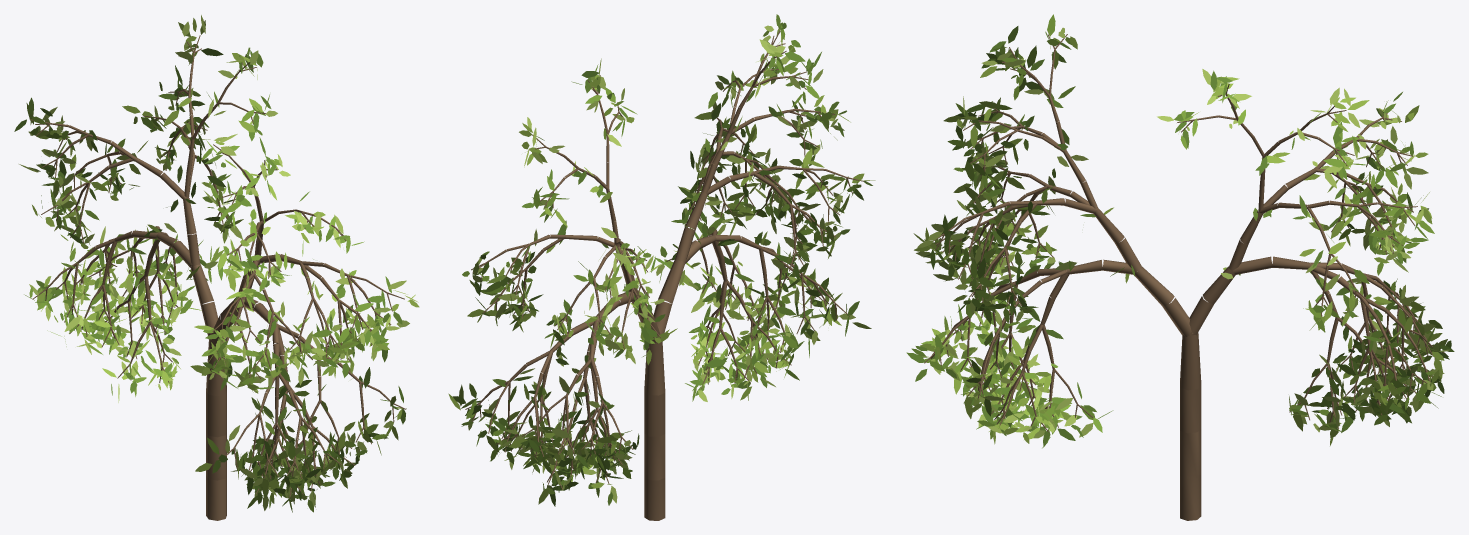
The model's file is tree.glb.
3 renders of one model, left to right at view 1: azimuth 30°, elevation 25°; view 2: azimuth 150°, elevation 25°; view 3: azimuth 270°, elevation 25°, orthographic. The views are drawn at different scales.
Parts seen in each view (by area): view 1: leaves, bark; view 2: leaves, bark; view 3: leaves, bark.
Part boxes in pixels (x1,y1,x2,y2): leaves: [14, 15, 419, 512]; bark: [30, 35, 406, 520]; leaves: [448, 14, 875, 506]; bark: [465, 31, 864, 520]; leaves: [906, 14, 1454, 448]; bark: [924, 34, 1444, 520].
Bounding box in the file's own units: 3.29 × 6.18 × 6.51.
